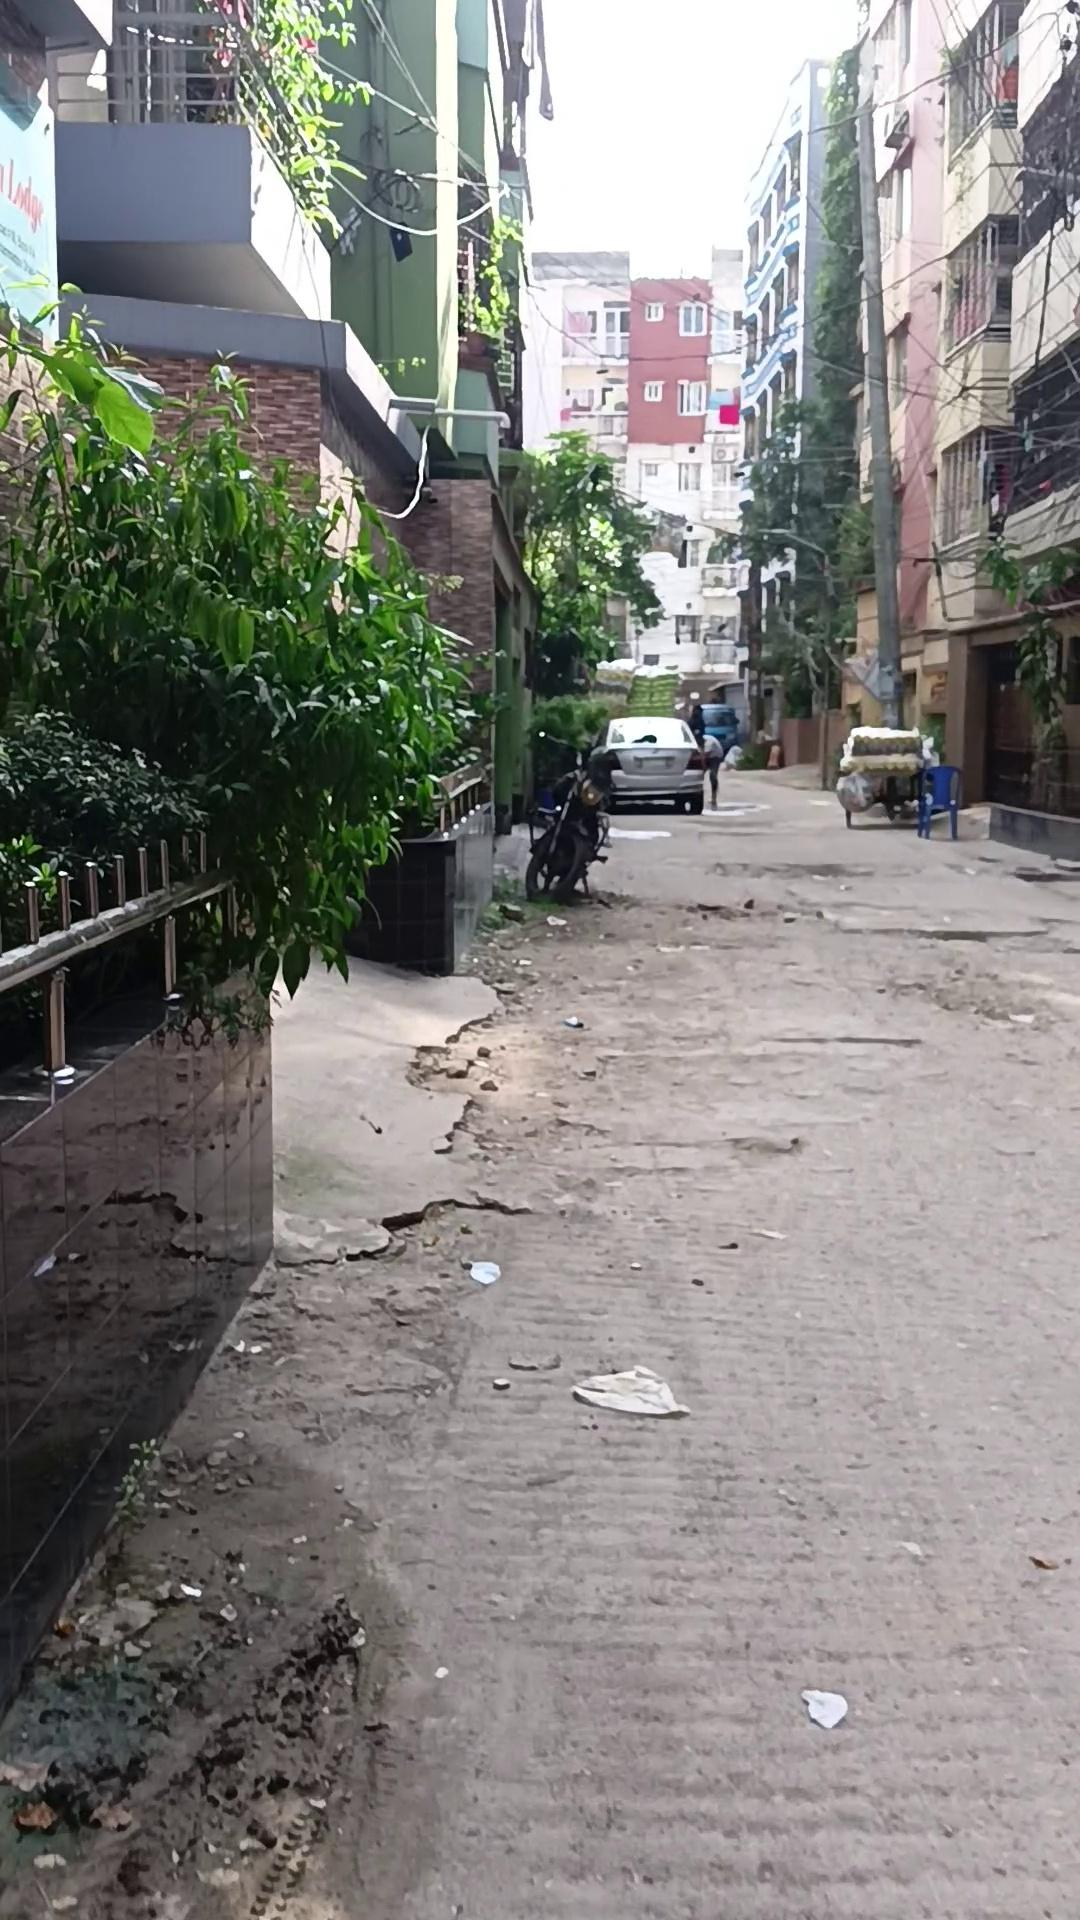Broken-road: (0, 811, 1080, 1920)
Car: (585, 715, 708, 814)
Light-pole: (524, 740, 622, 905)
